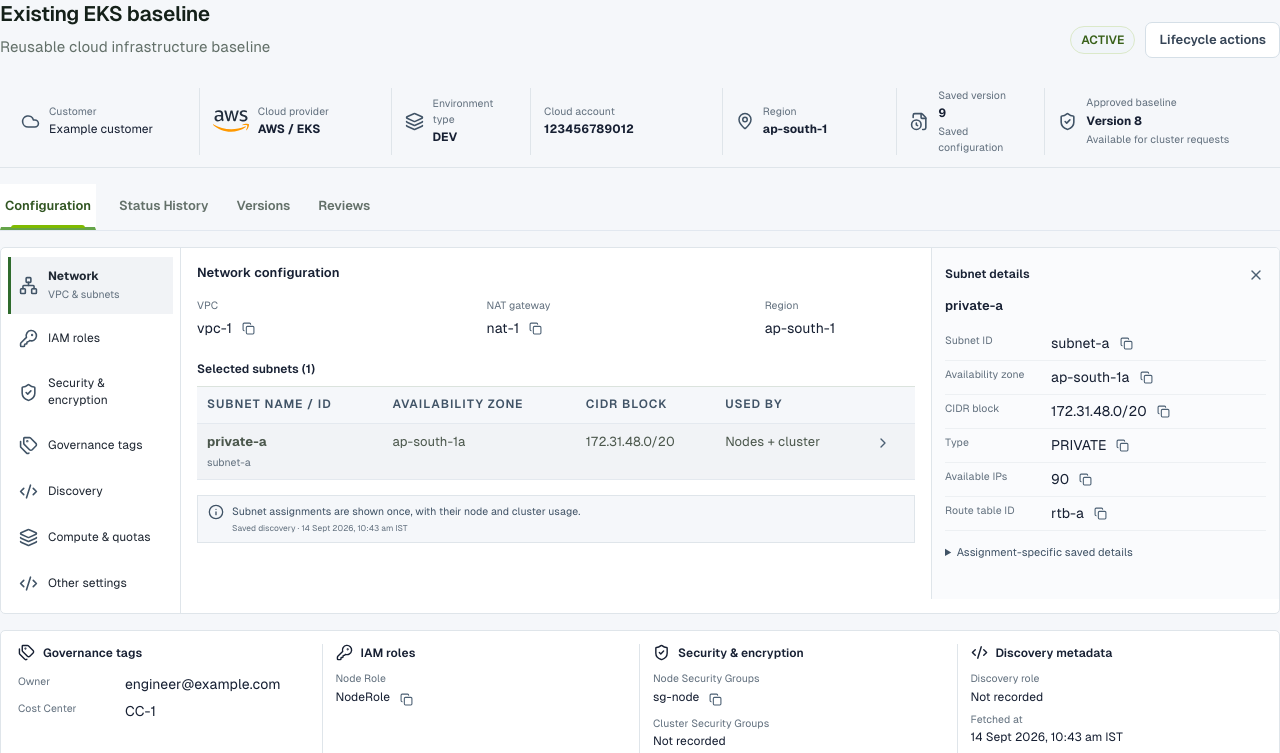
Test: Existing environment explorer › retains assignment-specific values when the same subnet ID has different saved metadata
Click the heading "Assignment-specific saved details" at coordinates (1045, 552), box [957,546,1133,558]
(page scrolled)
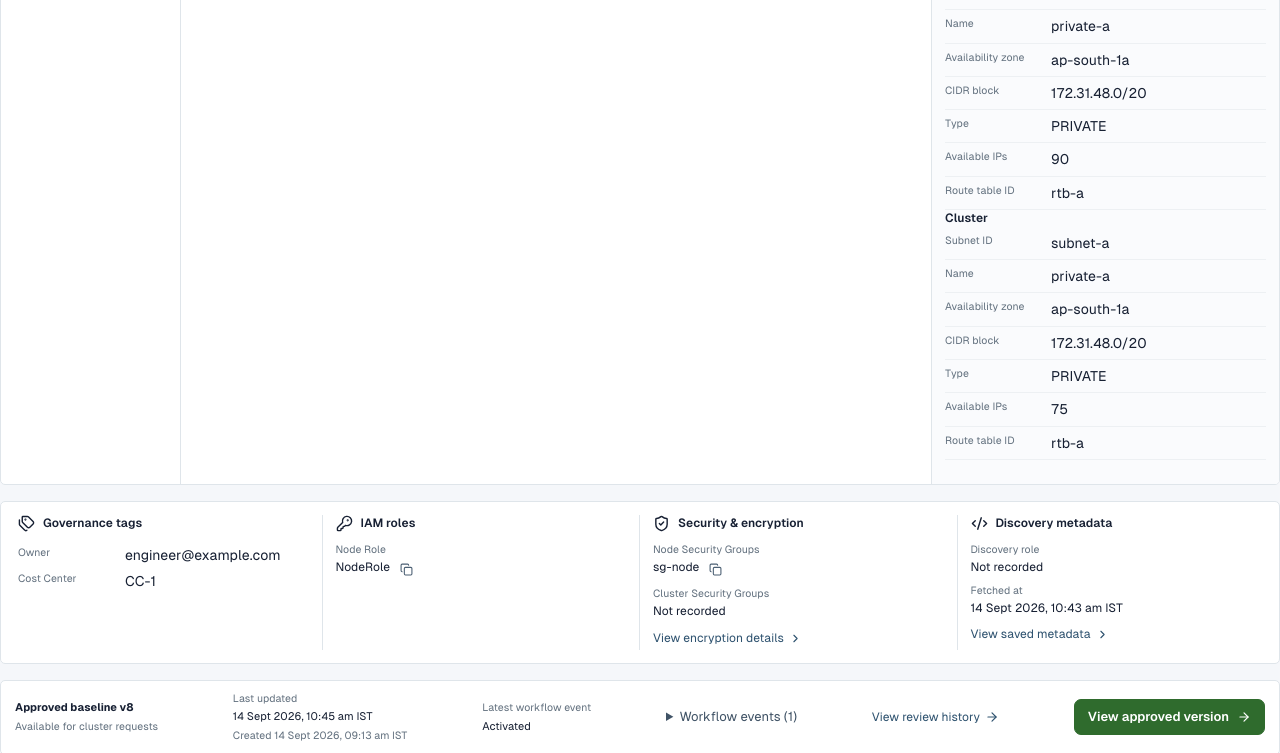
Expected: the text "75" is shown, [1051,401,1068,417]
